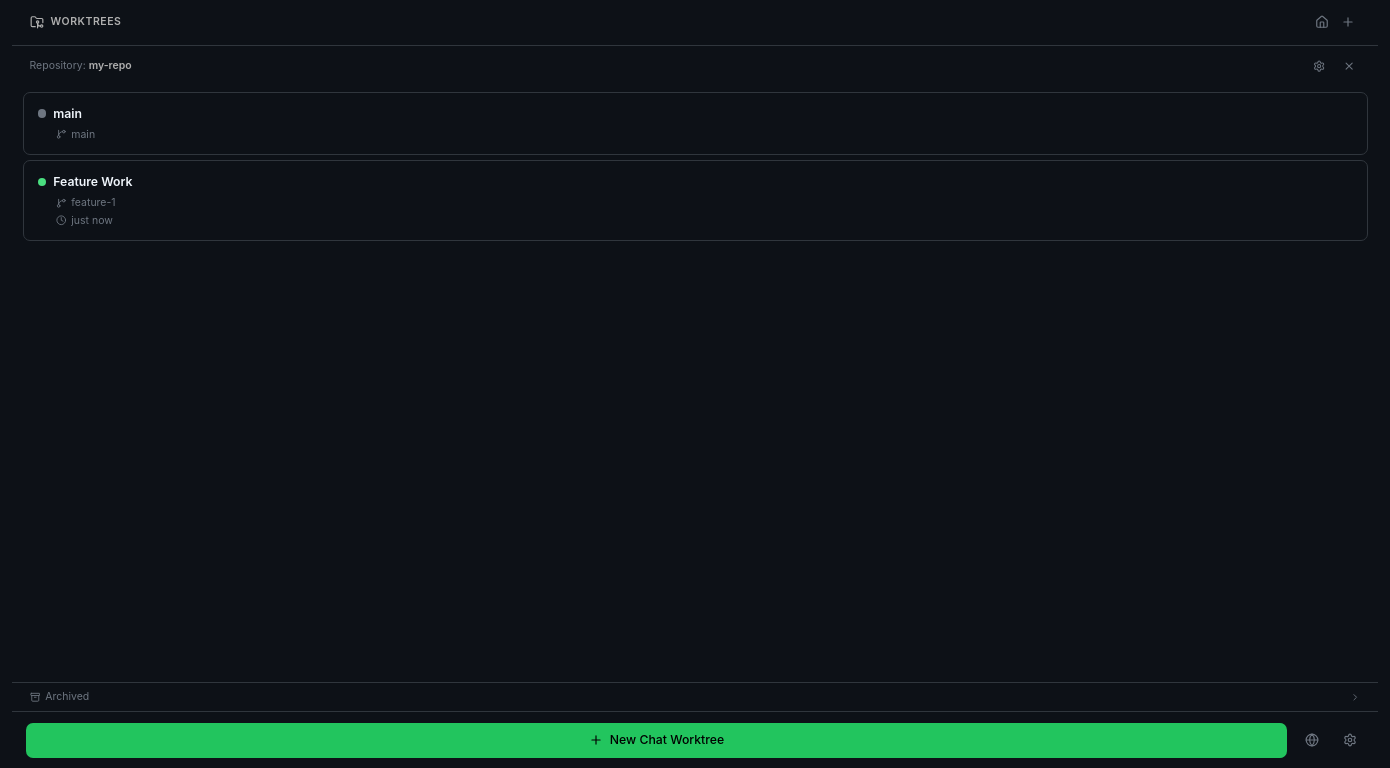
it: Sidebar › WorkspaceItem › double-click rename › enters edit mode on double-click
This screenshot has width=1390, height=768.
Double-click the text "Feature Work": (93, 182) [53,173,133,191]
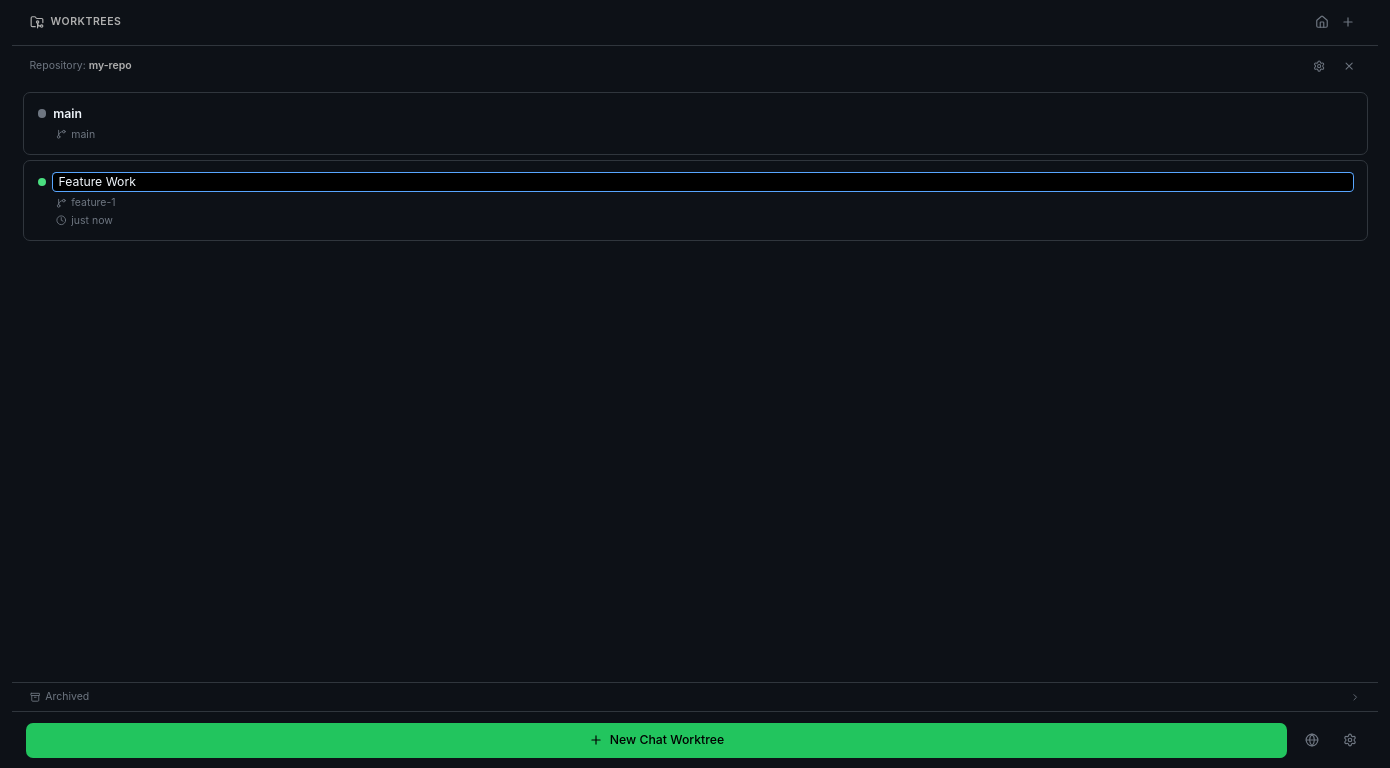
Expected: the field showing "Feature Work" is shown, [53,173,1353,191]
